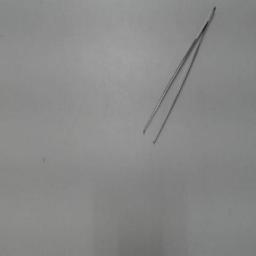Gillies Toothed Dissector: (140, 4, 222, 150)
